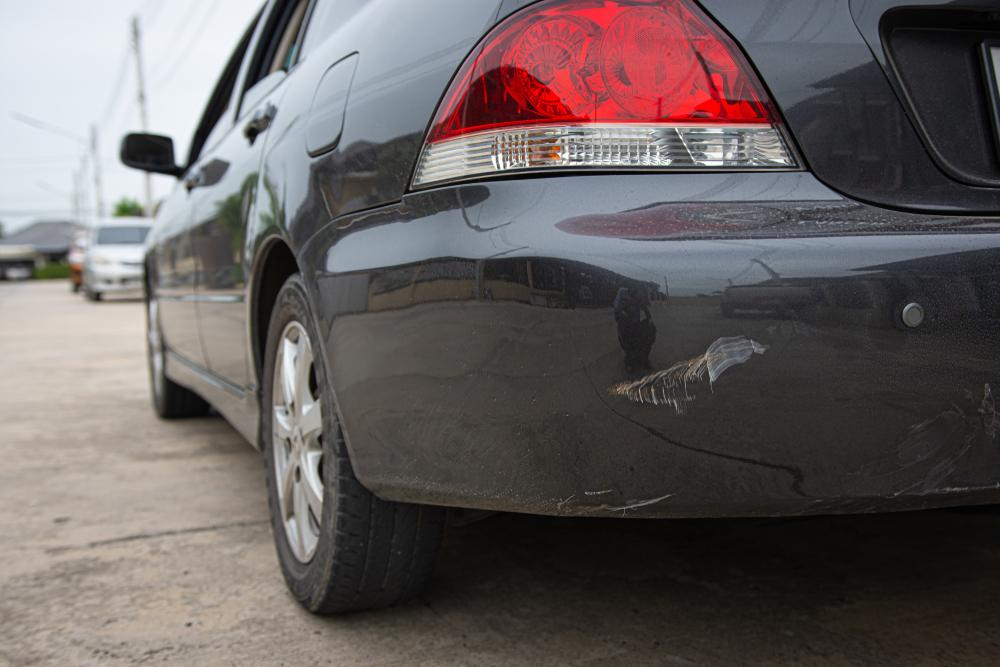scratch: (886, 374, 1000, 497), (608, 329, 770, 412), (525, 487, 677, 516)
